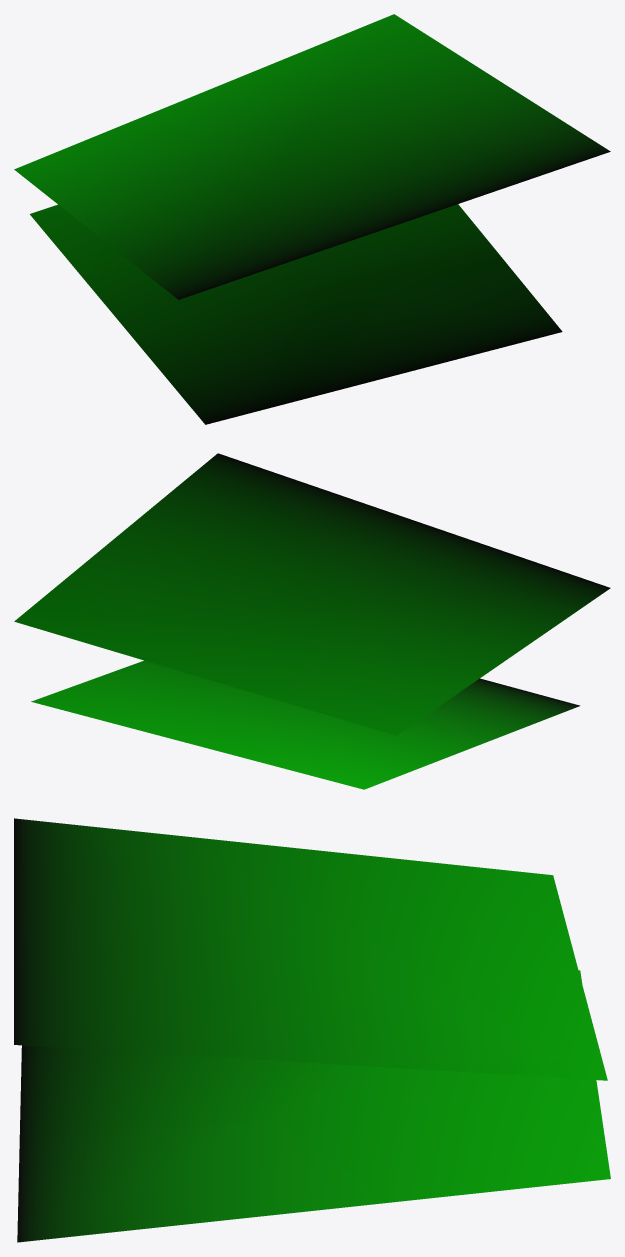
The model's file is Grass_2.fbx.
3 renders of one model, top to bottom at view 1: azimuth 30°, elevation 25°; view 2: azimuth 150°, elevation 25°; view 3: azimuth 270°, elevation 25°, orthographic. The views are drawn at different scales.
Visible parts, largest first — view 1: Rumput_6; view 2: Rumput_6; view 3: Rumput_6.
Boxes of the visible parts, <box> form: Rumput_6: <box>14,14,610,424</box>; Rumput_6: <box>14,453,610,789</box>; Rumput_6: <box>14,818,610,1242</box>.
Size of the model in its own units: 101 by 39.16 by 88.72.
